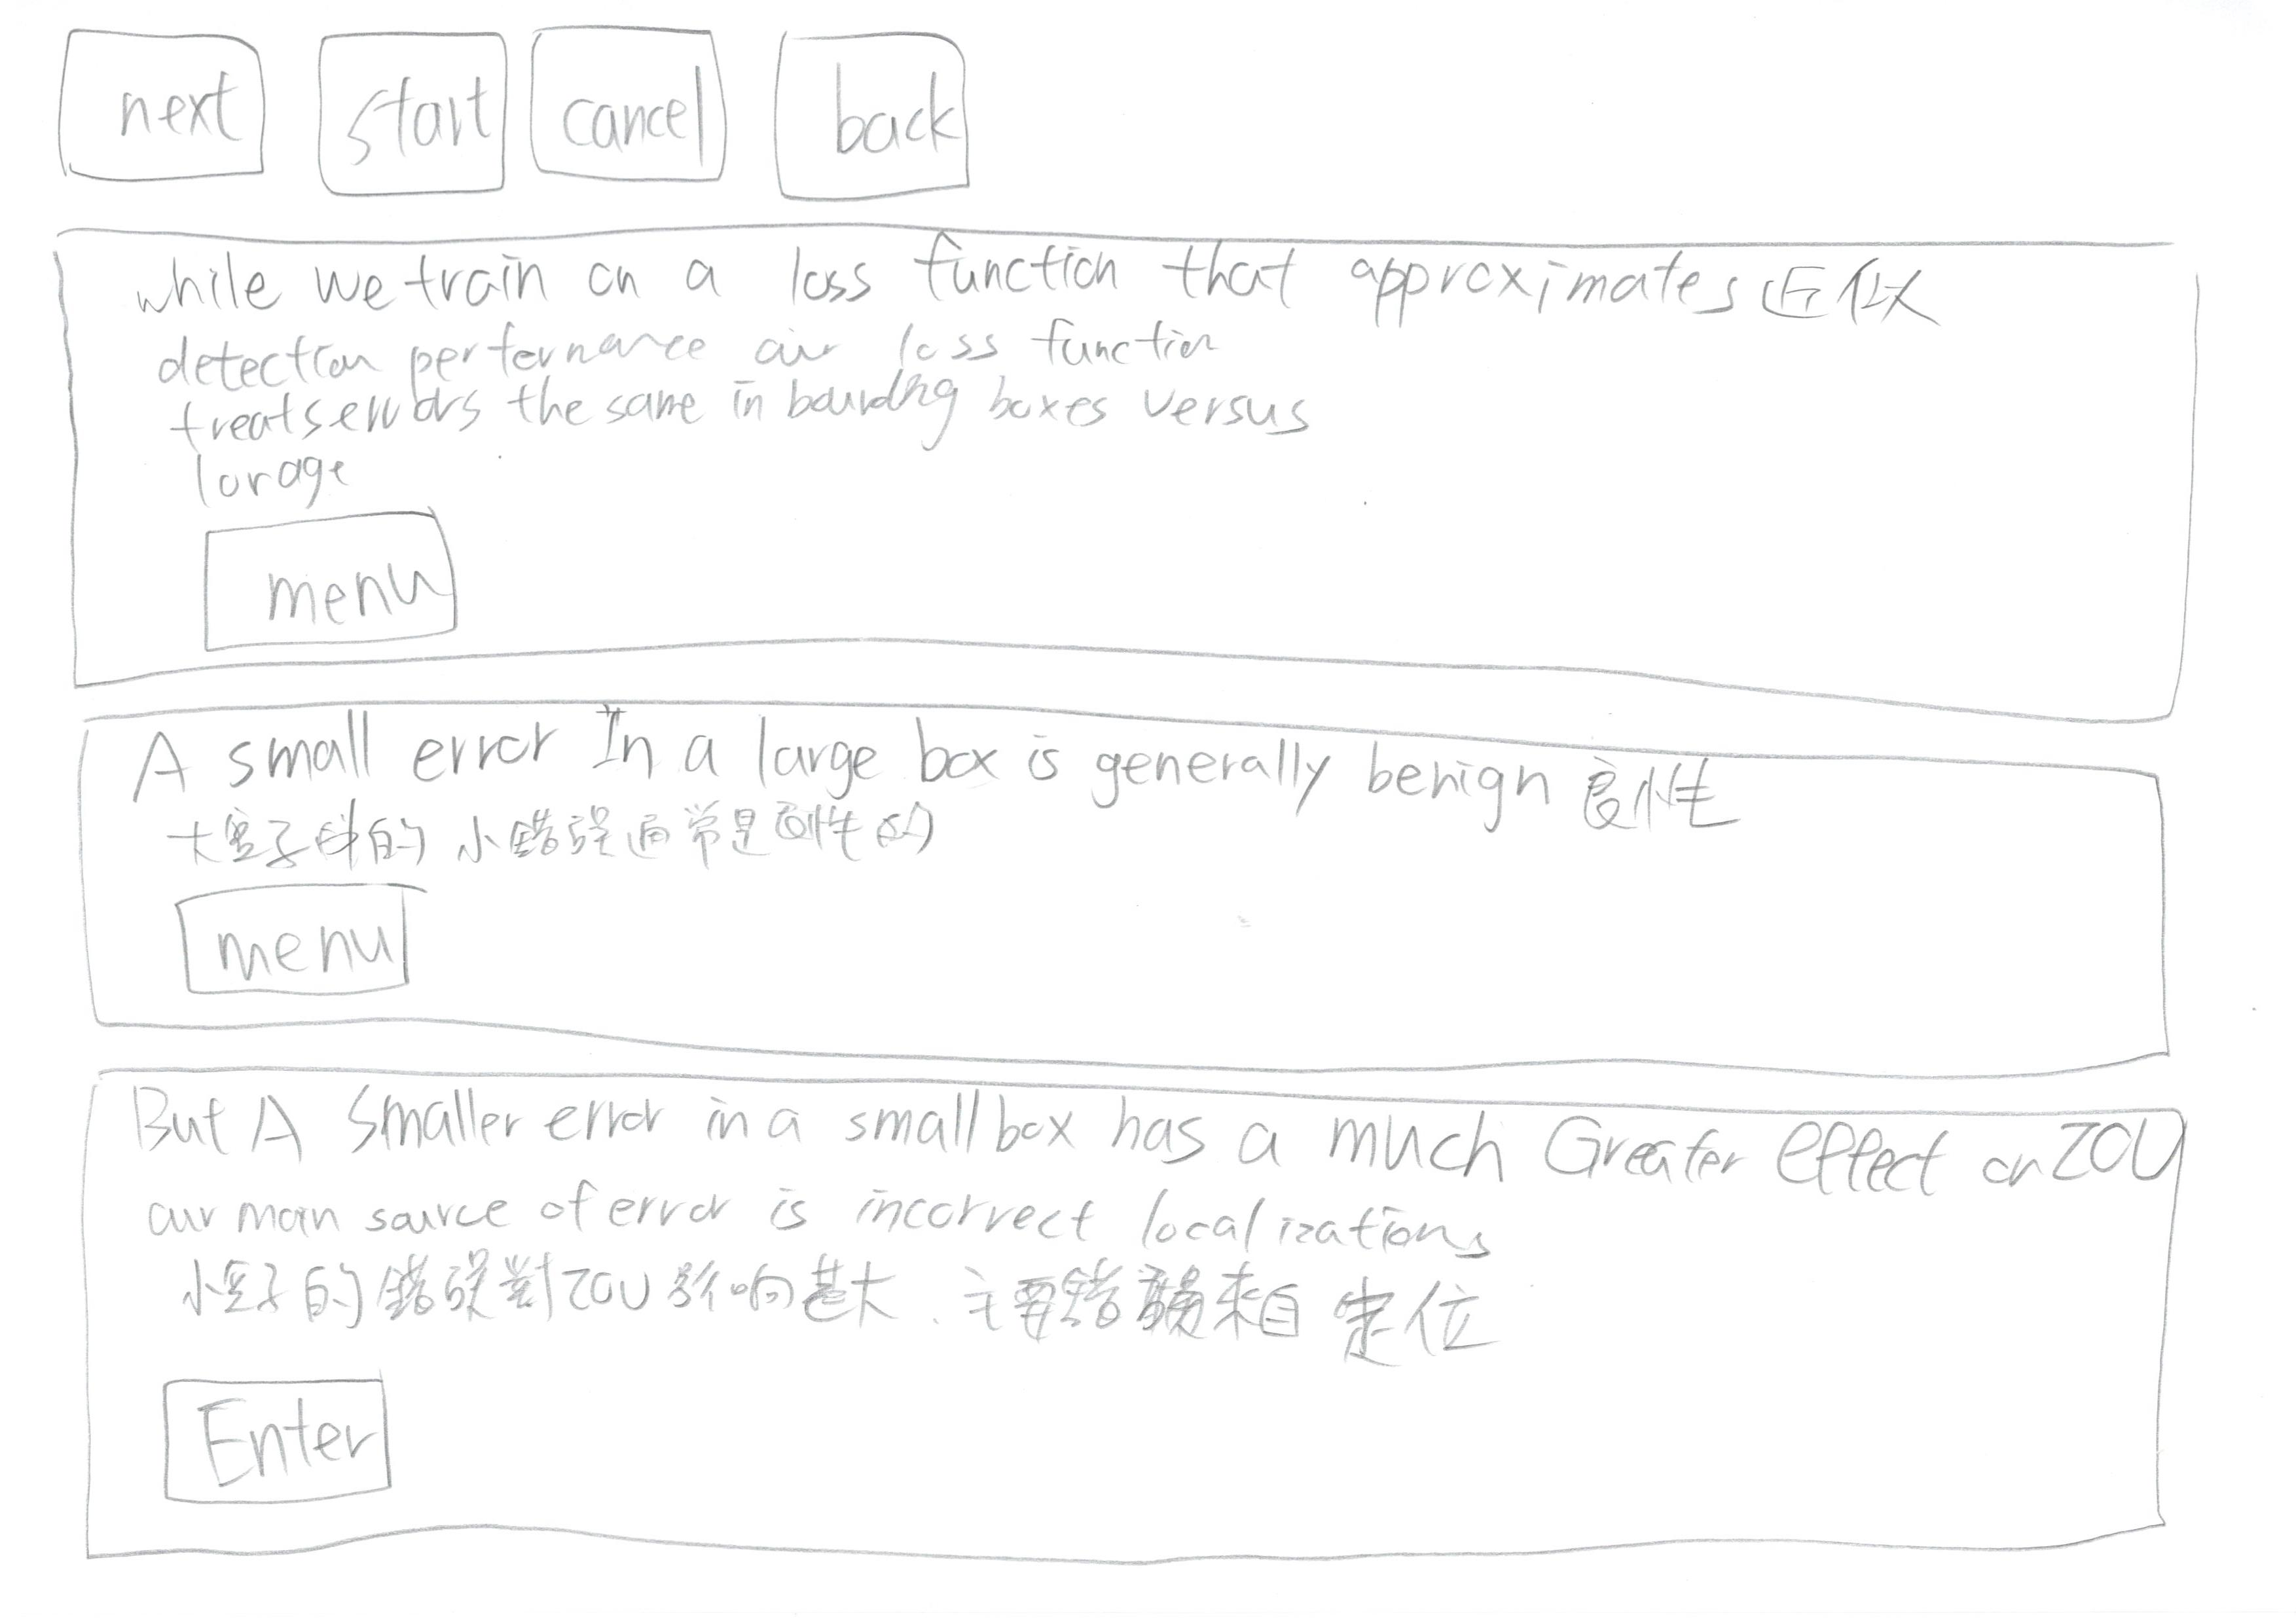back: (747, 4, 1004, 207)
btn-active: (139, 1350, 417, 1519)
cancel: (517, 5, 742, 202)
menu: (176, 499, 483, 663), (148, 875, 445, 1009)
next: (26, 18, 281, 197)
row: (21, 1037, 2296, 1622), (21, 209, 2261, 749), (11, 680, 2284, 1098), (5, 0, 2296, 239)
single: (18, 1058, 2236, 1606), (21, 207, 2226, 745), (32, 691, 2240, 1102)
small-title: (105, 1062, 2187, 1188), (127, 715, 1770, 835), (125, 257, 1957, 325)
start: (297, 16, 524, 211)
text: (116, 1183, 1545, 1364), (141, 334, 1317, 497), (156, 789, 976, 865)
